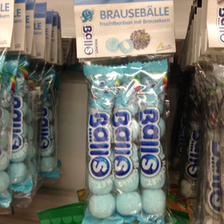candy: (78, 3, 174, 222), (1, 9, 62, 197)
